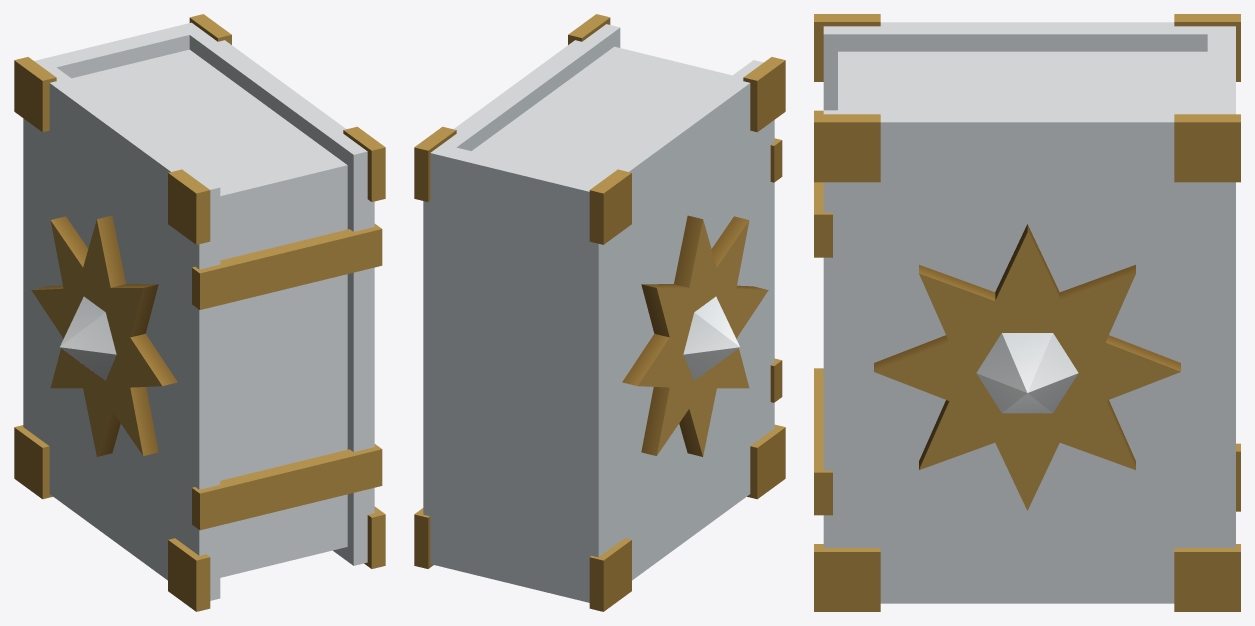
File: mage_off_4.gltf
3 views of the same model, side by side, from view 1: azimuth 30°, elevation 25°; view 2: azimuth 150°, elevation 25°; view 3: azimuth 270°, elevation 25° (orthographic). The views are drawn at different scales.
Visible parts, largest first — view 1: mage_off_4; view 2: mage_off_4; view 3: mage_off_4.
Boxes of the visible parts, x1,y1,x2,y2 form: mage_off_4: (14,14,385,611); mage_off_4: (414,14,785,611); mage_off_4: (814,14,1240,611).
Bounding box in the file's own units: 0.4 × 0.57 × 0.45.
1 material, 1 textured.
